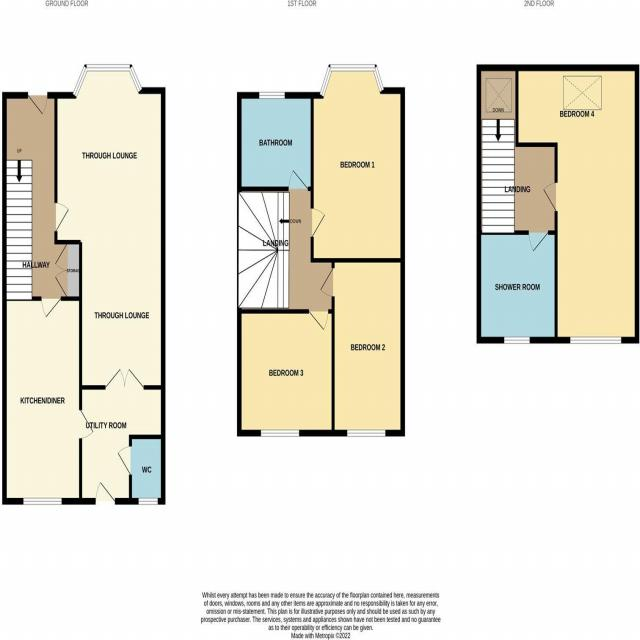DOOR: (319, 266, 335, 299), (95, 480, 116, 505), (27, 92, 48, 116), (542, 182, 558, 213), (54, 202, 70, 233), (528, 230, 549, 253), (41, 296, 62, 319), (311, 207, 326, 238), (79, 409, 94, 440), (308, 309, 329, 331), (288, 169, 308, 192), (117, 446, 132, 476)
ROOM: (515, 64, 640, 344), (2, 296, 95, 505), (310, 64, 405, 263), (319, 257, 405, 437), (237, 309, 335, 437)
WINDOW: (71, 64, 143, 99), (319, 64, 385, 99), (569, 336, 622, 345), (346, 429, 386, 437), (260, 429, 300, 437), (23, 497, 62, 505), (503, 336, 531, 344), (259, 91, 286, 99), (138, 497, 158, 505)
